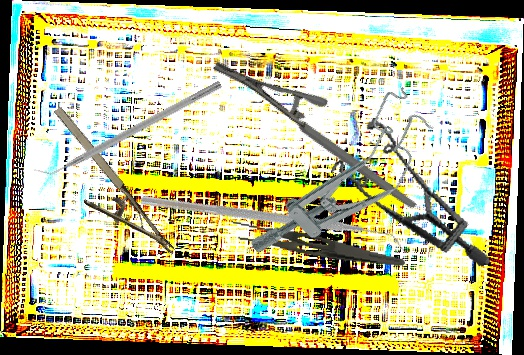Chopper: (137, 106, 409, 346), (32, 70, 223, 185)
Dressing Forceps: (226, 218, 409, 268)
Needle Holder: (208, 12, 418, 259), (29, 103, 177, 278)
Speculum: (237, 81, 452, 289), (320, 98, 491, 298)
